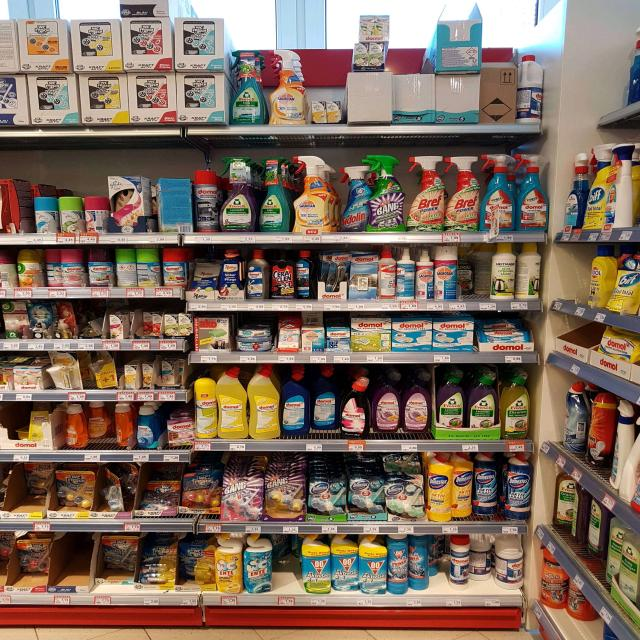empty: (50, 523, 97, 595), (553, 314, 595, 364)
